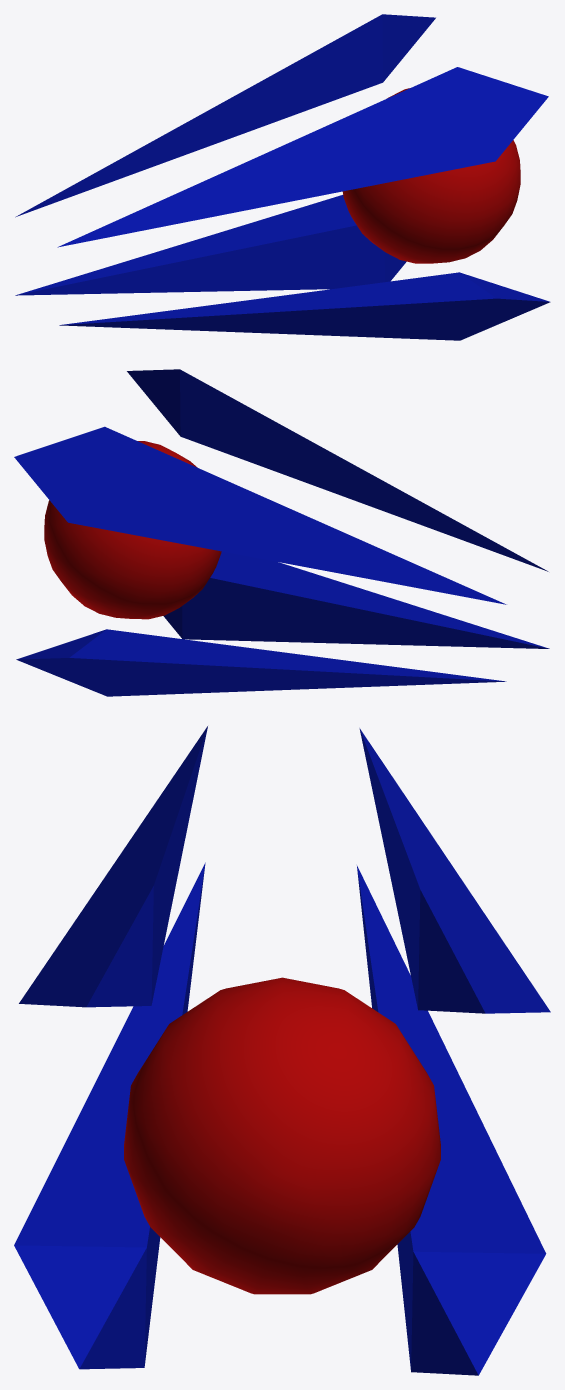
The model's file is enemy2.fbx.
3 views of the same model, one above another, from view 1: azimuth 30°, elevation 25°; view 2: azimuth 150°, elevation 25°; view 3: azimuth 270°, elevation 25° (orthographic). The views are drawn at different scales.
Visible parts, largest first — view 1: pPyramid6; view 2: pPyramid6; view 3: pPyramid6.
Part boxes in pixels (<box>): pPyramid6: <box>15,14,550,340</box>; pPyramid6: <box>14,369,549,696</box>; pPyramid6: <box>14,726,550,1375</box>.
Bounding box in the file's own units: 4.35 × 2.41 × 2.41.
